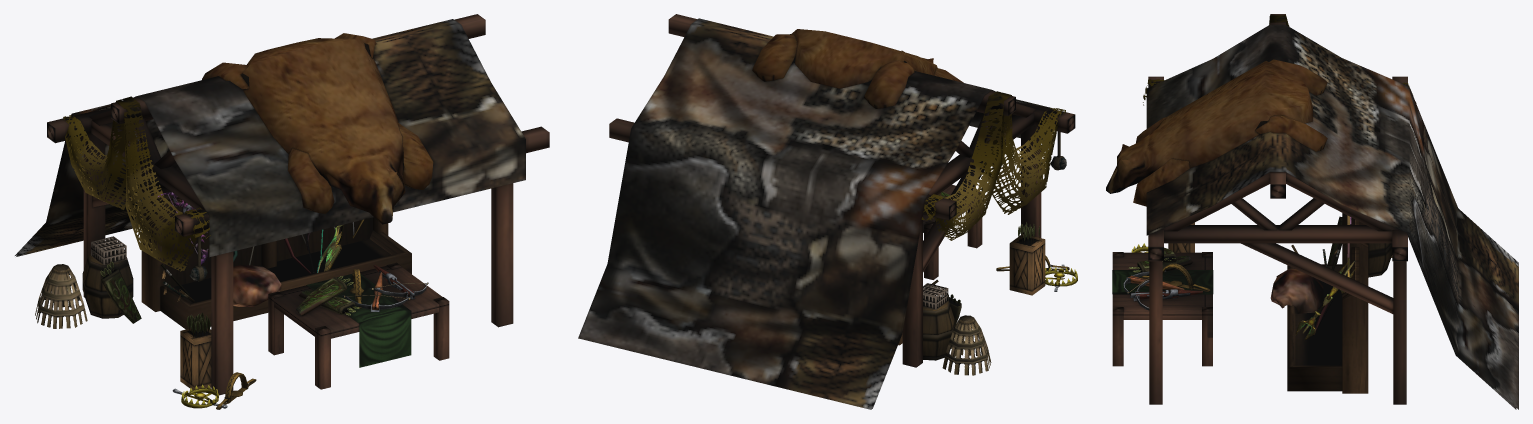
The model's file is stall_hunter_atlas.fbx.
3 views of the same model, side by side, from view 1: azimuth 30°, elevation 25°; view 2: azimuth 150°, elevation 25°; view 3: azimuth 270°, elevation 25° (orthographic). The views are drawn at different scales.
Visible parts, largest first — view 1: Hunter_shop_tent, Bow_rack, Hunter_shop_table, Straw_trap, Aroow_crate, Barrel, Rack_pelt, Quiver1, Quiver2, Cage, Opentrap1, Crossbow2 (+4 smaller); view 2: Hunter_shop_tent, Aroow_crate, Straw_trap, Barrel, Hunter_shop_table, Cage, Opentrap1; view 3: Hunter_shop_tent, Bow_rack, Hunter_shop_table, Rack_pelt, Barrel, LegendBow2, Crossbow2, Closedtrap1, Quiver3, Crossbow1.
Part boxes in pixels (x1,y1,x2,y2): Hunter_shop_tent: [15, 14, 549, 395]; Bow_rack: [141, 198, 411, 329]; Hunter_shop_table: [268, 262, 449, 389]; Straw_trap: [35, 264, 87, 328]; Aroow_crate: [180, 312, 211, 390]; Barrel: [82, 250, 133, 318]; Rack_pelt: [233, 265, 281, 306]; Quiver1: [100, 261, 141, 323]; Quiver2: [295, 276, 353, 316]; Cage: [91, 236, 126, 264]; Opentrap1: [172, 384, 227, 408]; Crossbow2: [369, 265, 428, 299]; Hunter_shop_tent: [578, 14, 1075, 409]; Aroow_crate: [1009, 222, 1045, 295]; Straw_trap: [942, 315, 991, 375]; Barrel: [923, 296, 954, 360]; Hunter_shop_table: [923, 185, 982, 279]; Cage: [923, 283, 948, 309]; Opentrap1: [1045, 264, 1077, 291]; Hunter_shop_tent: [1106, 14, 1518, 409]; Bow_rack: [1287, 213, 1368, 393]; Hunter_shop_table: [1112, 252, 1213, 366]; Rack_pelt: [1270, 268, 1323, 313]; Barrel: [1368, 243, 1392, 277]; LegendBow2: [1295, 261, 1356, 339]; Crossbow2: [1130, 280, 1202, 310]; Closedtrap1: [1141, 263, 1209, 291]; Quiver3: [1128, 255, 1192, 272]; Crossbow1: [1123, 270, 1184, 294].
Size of the model in its own units: 6.56 by 4.35 by 6.26.
